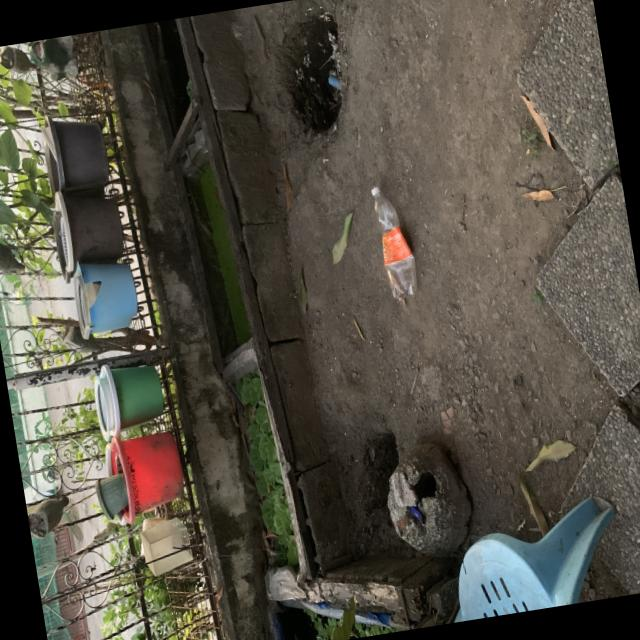Bottle: (370, 187, 415, 300)
